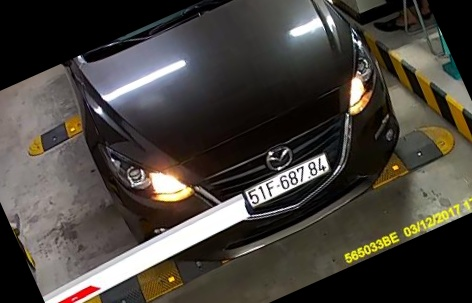plate: (230, 153, 337, 216)
